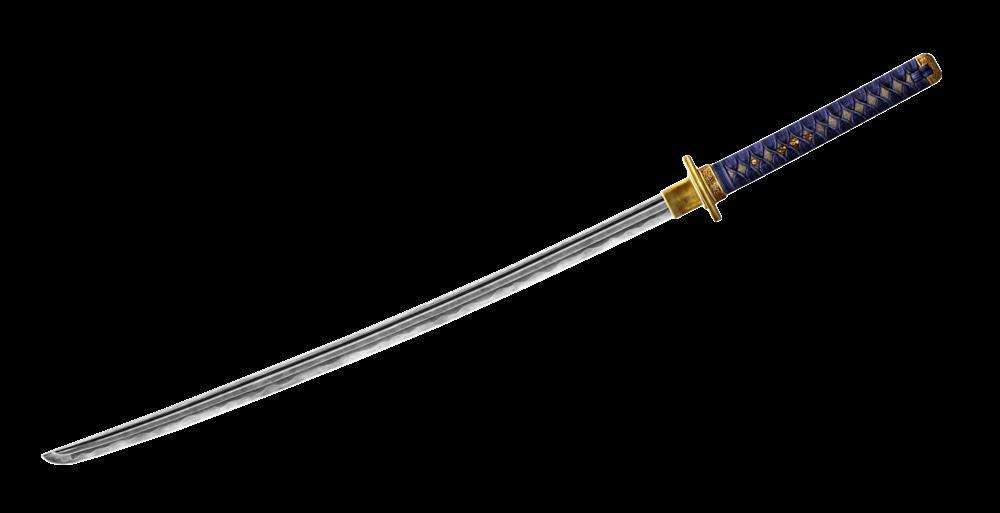espada: (41, 54, 942, 464)
